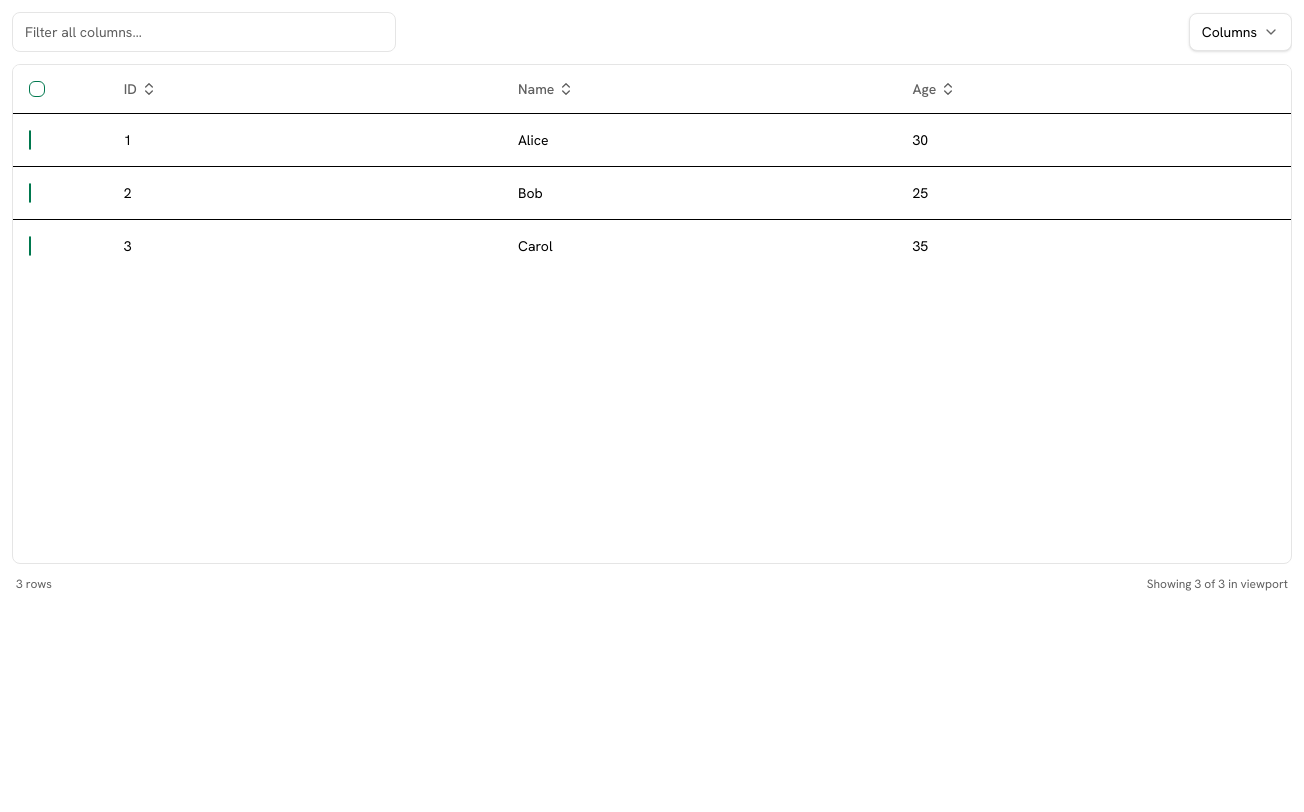
Test: DataTable row selection + ActionBar (Epic 23) › shows the ActionBar with the selected count once a row is checked
This screenshot has width=1304, height=812.
What coordinates should you click on to do the following:
click the checkbox named "Select row 0"
I would click on:
 (30, 140)
Its box is [29,130,31,150].
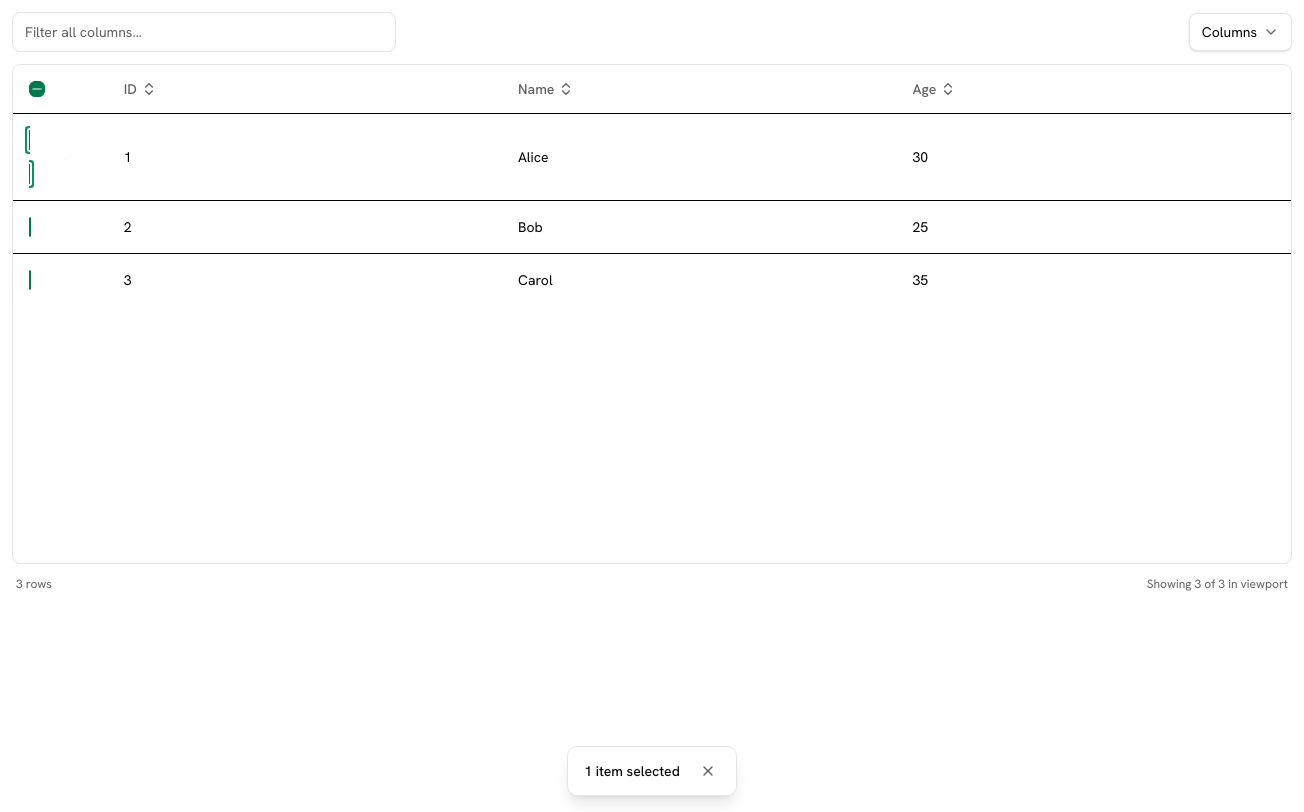
Expected: the message named "Bulk actions" reads "1 item selected", [584,762,680,780]
